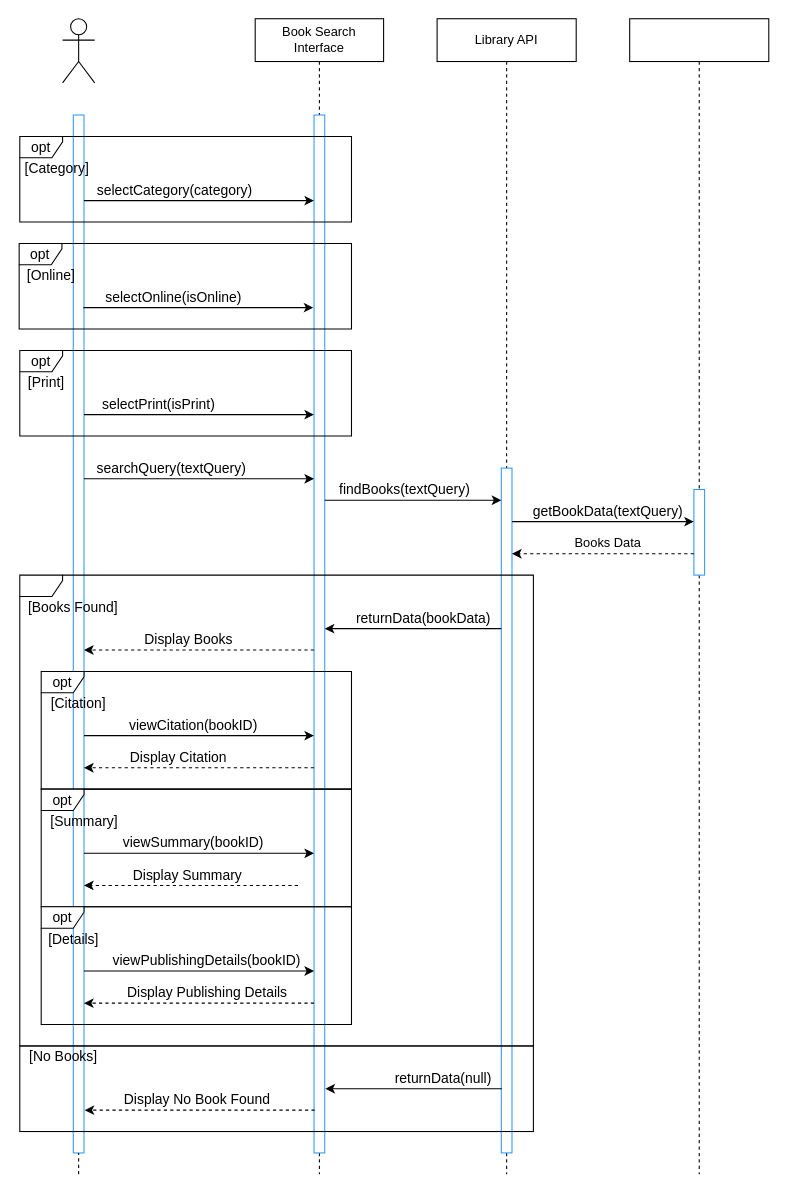
The diagram is 788 pixels wide and 1194 high, and some of its shapes have lost their labels. Here are the shapes that lost their labels. From the top down, the box of each, then its label:
(62, 18, 95, 83): Student
(629, 18, 769, 1174): Repository
(19, 574, 533, 1046): alt
